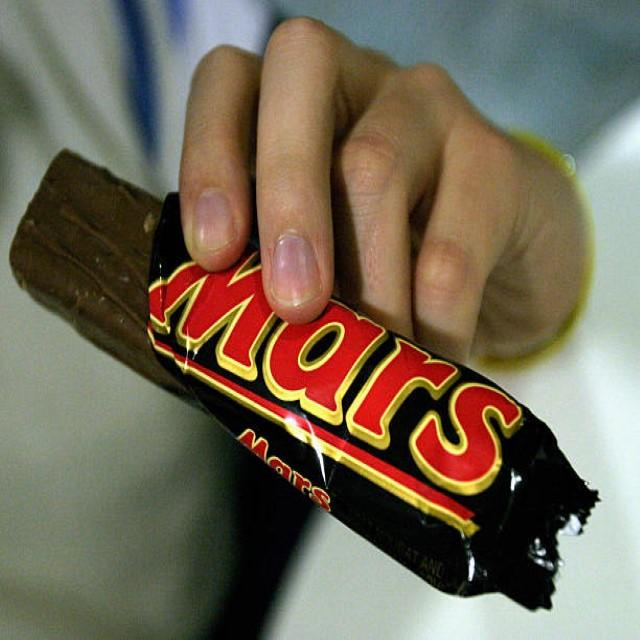mars_chocolate: (152, 202, 566, 608)
